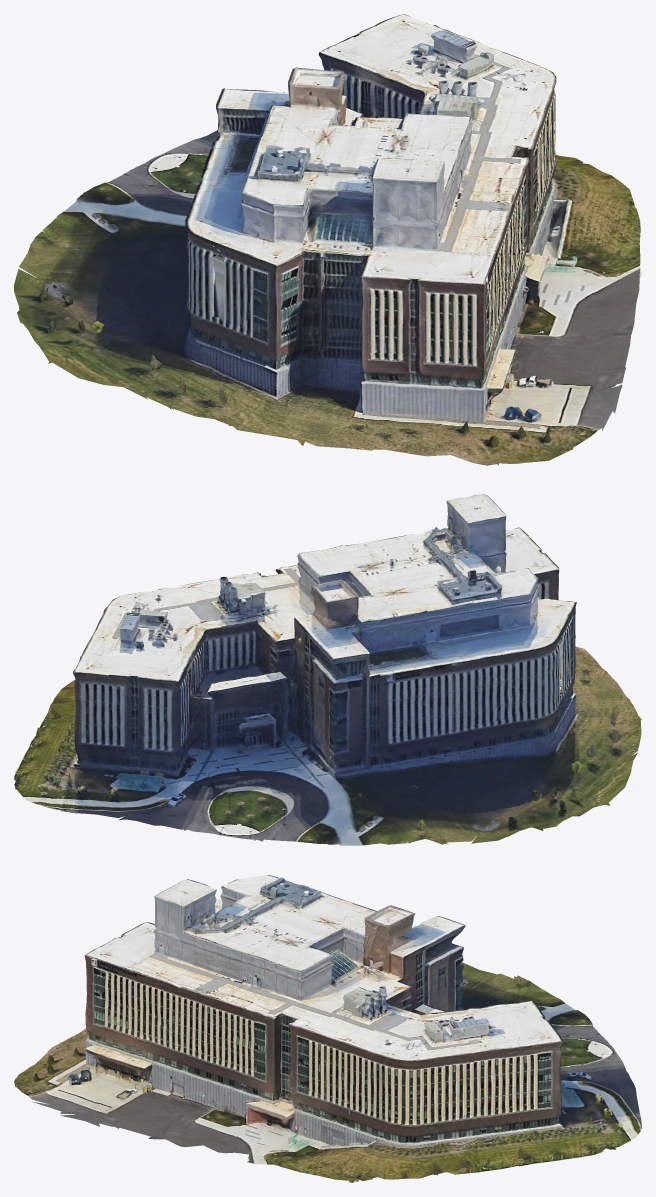
Rendered from ETEC.glb.
The picture shows the model from 3 angles, top to bottom: view 1: azimuth 30°, elevation 25°; view 2: azimuth 150°, elevation 25°; view 3: azimuth 270°, elevation 25°; orthographic projection. The views are drawn at different scales.
Visible parts, largest first — view 1: Google 3D Tiles; view 2: Google 3D Tiles; view 3: Google 3D Tiles.
Part boxes in pixels (x1,y1,x2,y2): Google 3D Tiles: (14, 14, 641, 465); Google 3D Tiles: (14, 494, 641, 845); Google 3D Tiles: (14, 875, 641, 1182).
Bounding box in the file's own units: 125 × 44.48 × 141.
Materials: 32 (32 with a texture image).
